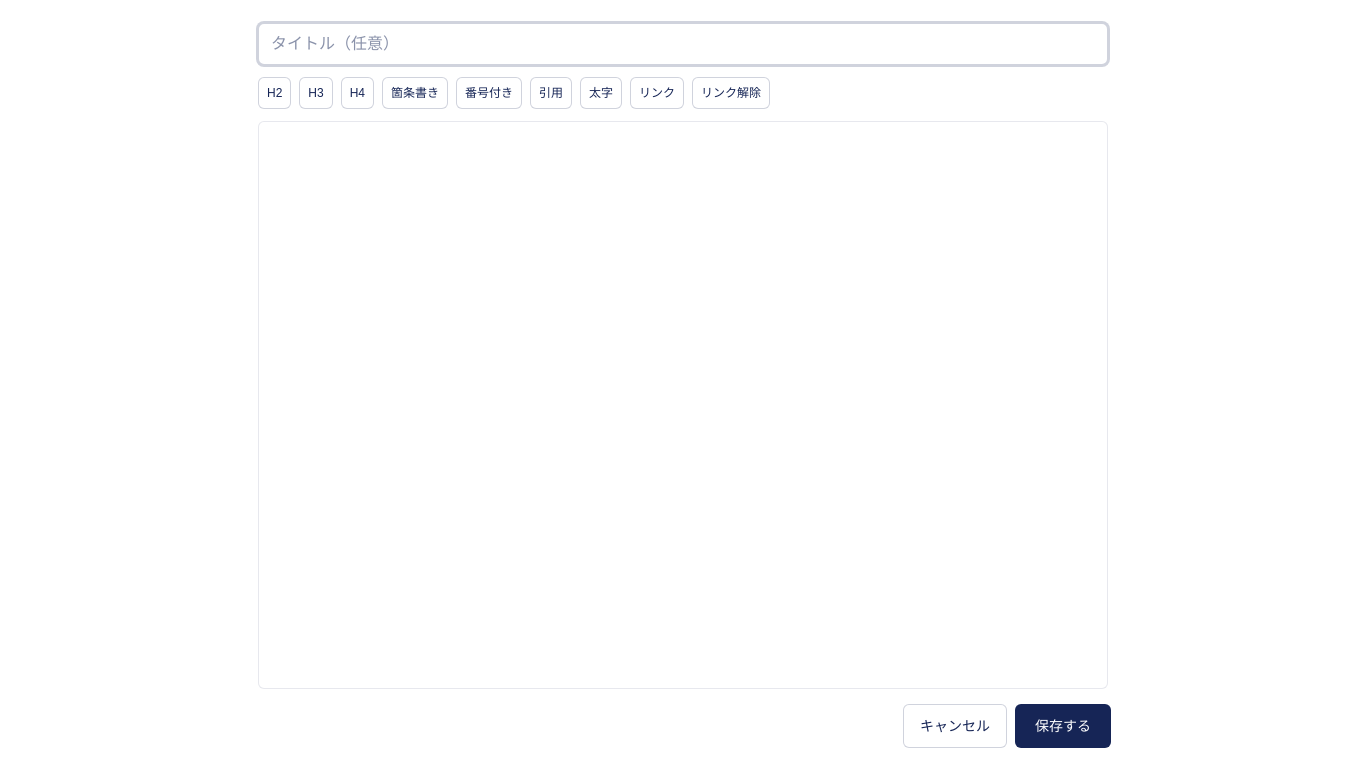
Test case: NoteComposerModal › shows validation alert when note body is empty
The width and height of the screenshot is (1366, 768).
Click the button "保存する" at [1063, 726], box [1015,704,1111,748]
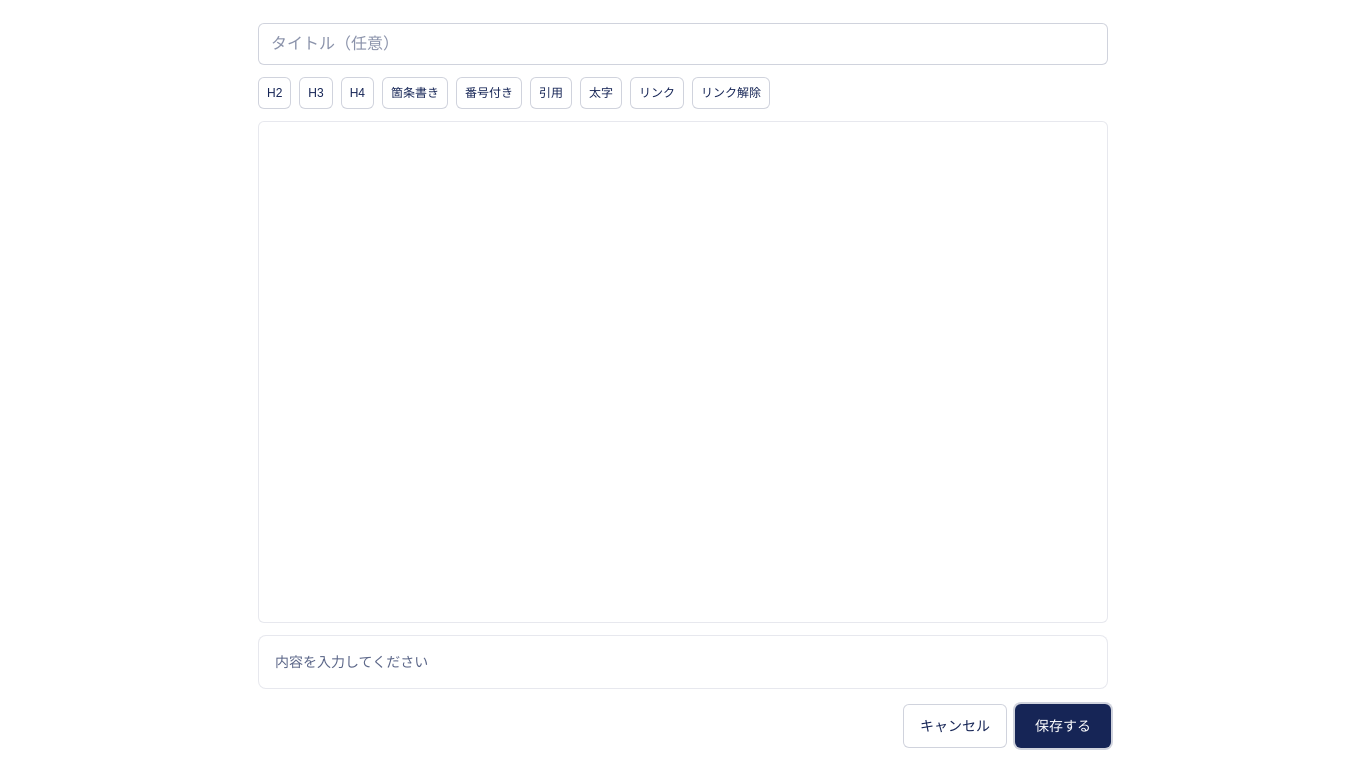
expect the text "内容を入力してください" is shown: met, box [275,654,428,670]
